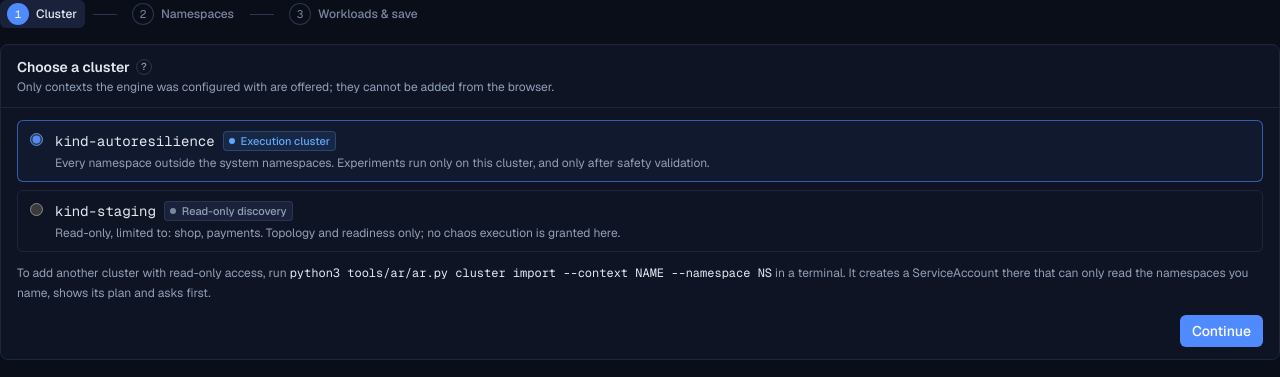
Test case: Onboarding › shows why a cluster cannot be read
Click the button "Continue": [1221, 331] box [1180,315,1263,347]
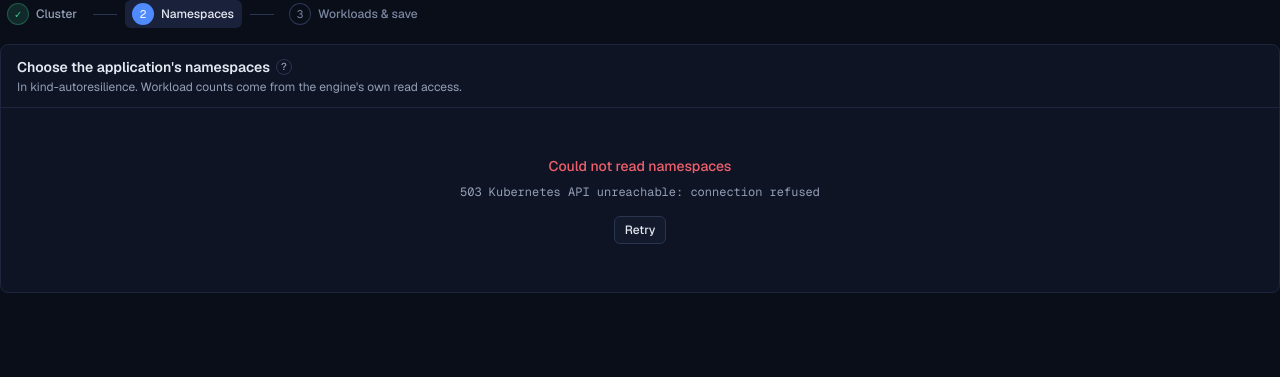
Now the text "Could not read namespaces" is shown, box [549,156,731,176]
Now the text "503 Kubernetes API unreachable: connection refused" is shown, box [460,184,820,200]
